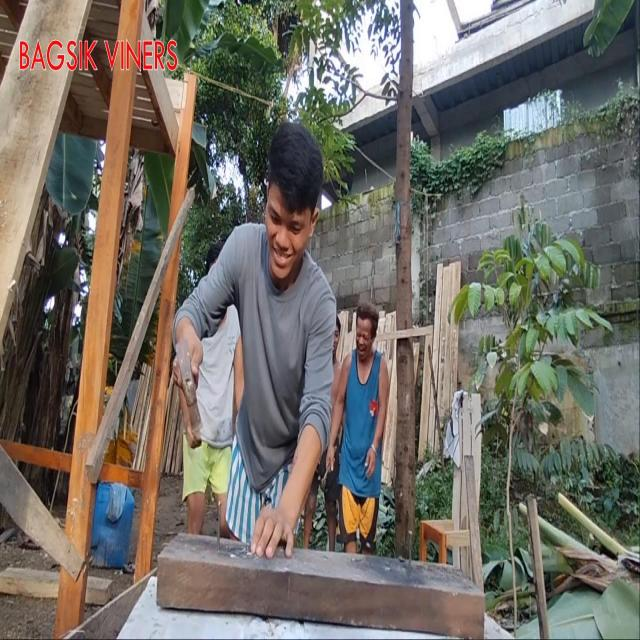hammer: (174, 337, 203, 437), (317, 444, 337, 494)
